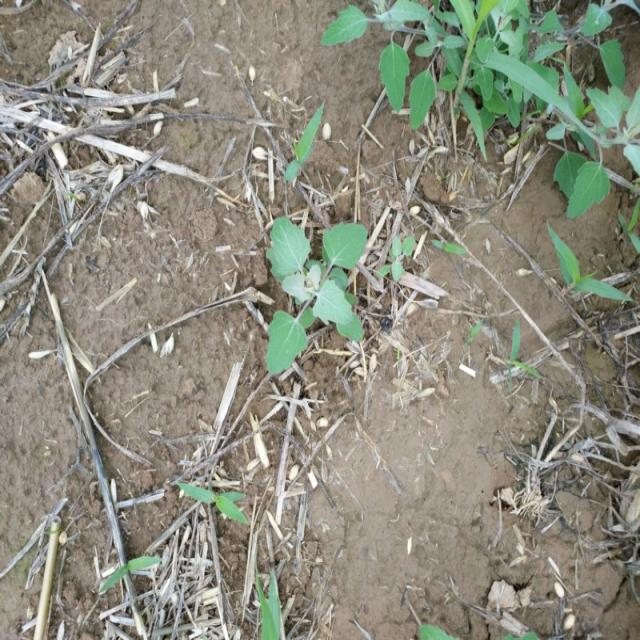goosefoots: (246, 208, 374, 363)
